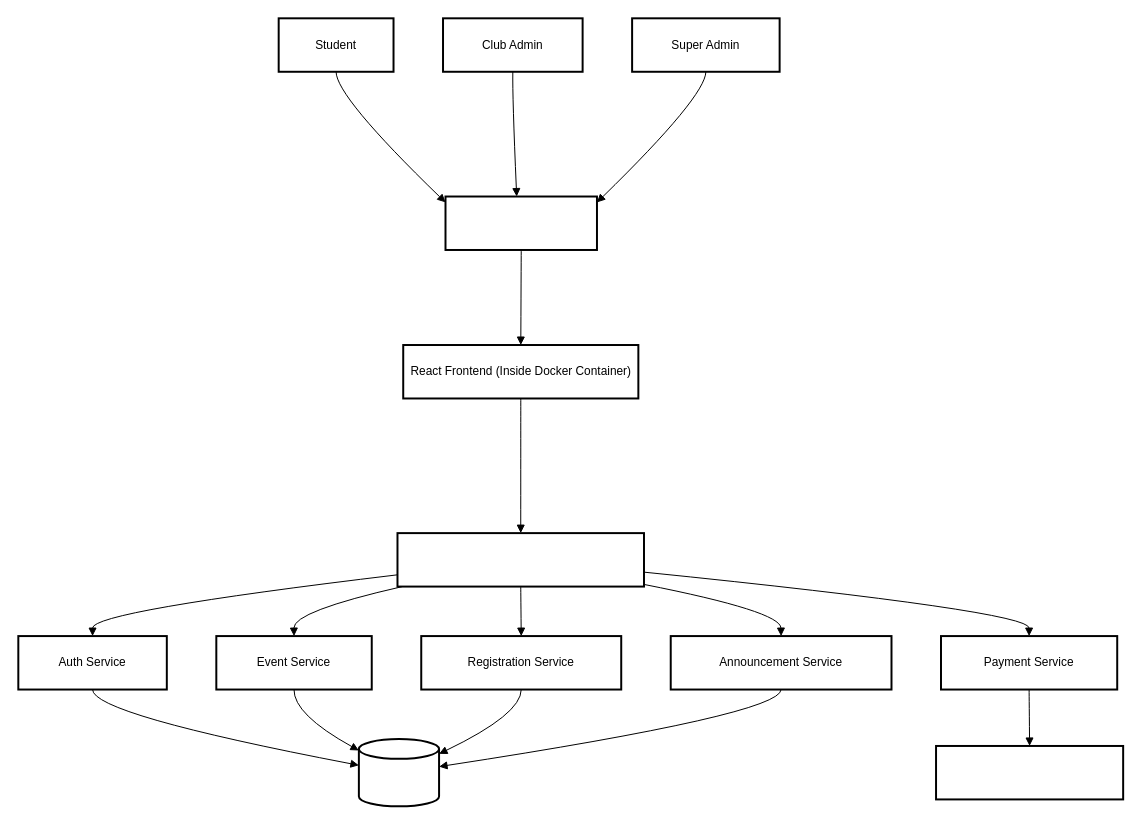
Image size: 1140x824. Some labels were removed from this diagram. Here are the shapes that lost their labels. From the top down, the centre of each, then its label:
At pixel 520 222: "Web Browser".
At pixel 520 559: "Backend API (Inside Docker Container)".
At pixel 398 772: "Database".
At pixel 1029 772: "Payment Gateway".
